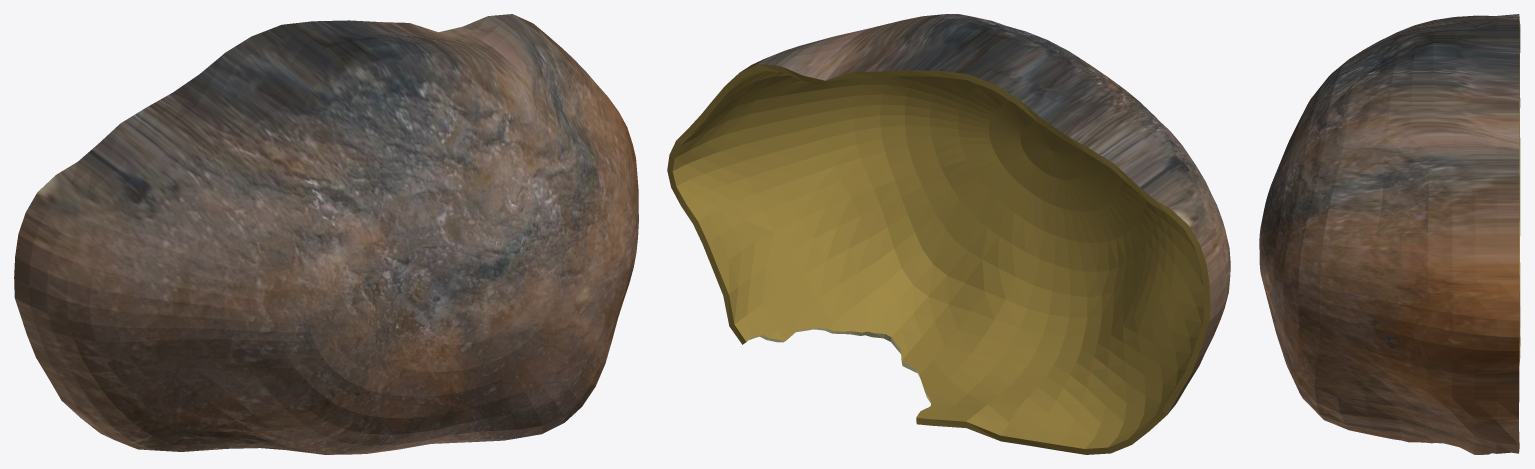
File: cave.obj
The picture shows the model from 3 angles, left to right: view 1: azimuth 30°, elevation 25°; view 2: azimuth 150°, elevation 25°; view 3: azimuth 270°, elevation 25°; orthographic projection. The views are drawn at different scales.
Parts seen in each view (by area): view 1: Object.1; view 2: Object.1; view 3: Object.1.
Part boxes in pixels (x1,y1,x2,y2): Object.1: (14,14,638,454); Object.1: (667,14,1230,454); Object.1: (1259,14,1520,454).
Bounding box in the file's own units: 18.52 × 12.05 × 7.95.
Materials: 3 (1 with a texture image).
